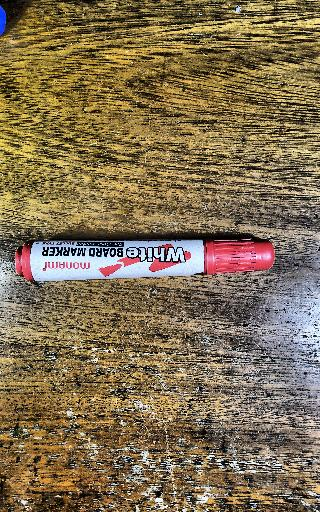marcador rojo: (15, 238, 274, 281)
